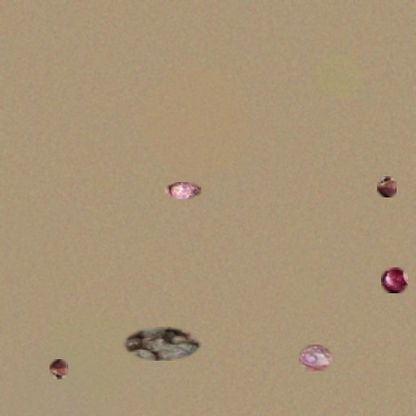healthy: (381, 267, 408, 293)
rotten: (123, 327, 201, 361), (299, 345, 332, 371), (164, 182, 202, 199)
sprouted: (377, 176, 397, 197), (50, 359, 68, 379)
